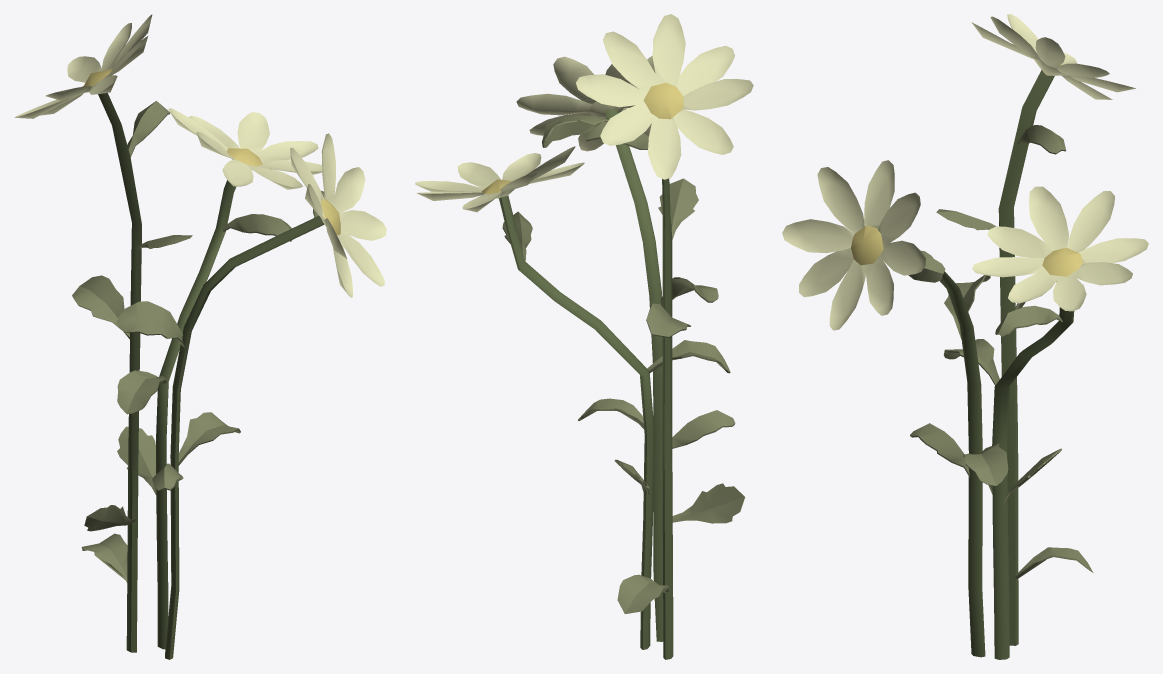
The model's file is Daisy.fbx.
3 views of the same model, side by side, from view 1: azimuth 30°, elevation 25°; view 2: azimuth 150°, elevation 25°; view 3: azimuth 270°, elevation 25° (orthographic). The views are drawn at different scales.
Visible parts, largest first — view 1: Stem_2, Stem_1, Stem_3, Flower_3, Flower_1, Flower_2; view 2: Flower_2, Stem_2, Stem_3, Stem_1, Flower_1, Flower_3; view 3: Flower_3, Flower_1, Stem_3, Stem_2, Stem_1, Flower_2.
Boxes of the visible parts, <box> form: Stem_2: <box>72,93,192,652</box>; Stem_1: <box>117,180,291,649</box>; Stem_3: <box>116,191,324,659</box>; Flower_3: <box>290,133,386,297</box>; Flower_1: <box>168,108,322,189</box>; Flower_2: <box>14,14,152,118</box>; Flower_2: <box>576,14,753,179</box>; Stem_2: <box>585,121,744,659</box>; Stem_3: <box>542,109,735,641</box>; Stem_1: <box>499,195,730,649</box>; Flower_1: <box>415,146,584,212</box>; Flower_3: <box>516,55,655,151</box>; Flower_3: <box>782,160,925,330</box>; Flower_1: <box>972,186,1148,311</box>; Stem_3: <box>908,250,1008,657</box>; Stem_2: <box>936,70,1093,645</box>; Stem_1: <box>943,305,1074,659</box>; Flower_2: <box>971,14,1135,99</box>.
Bounding box in the file's own units: 37.72 × 72.96 × 38.42.
